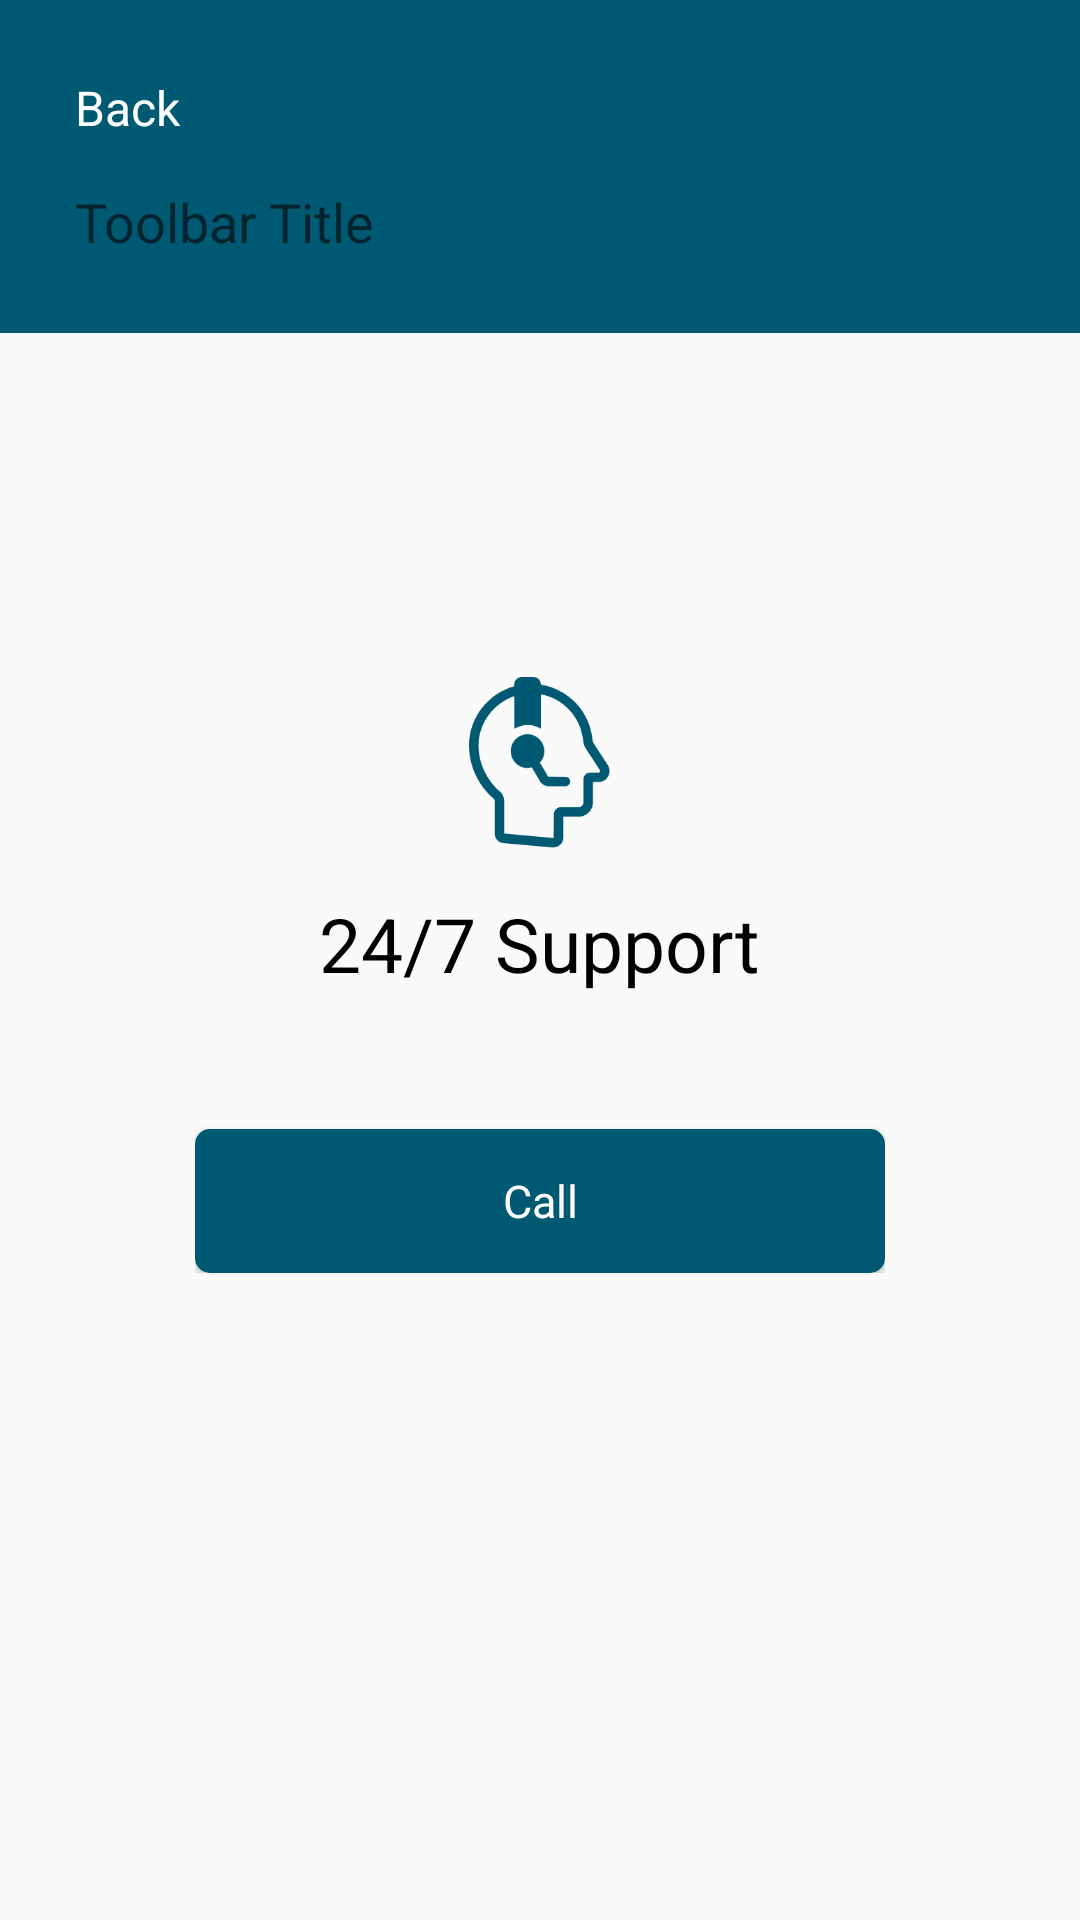

Icons on this 1080w x 1920h Android screen, each with its box as {"left": x1, "top": y1, "right": x2, "bottom": y2}:
call support: {"left": 469, "top": 677, "right": 610, "bottom": 848}
